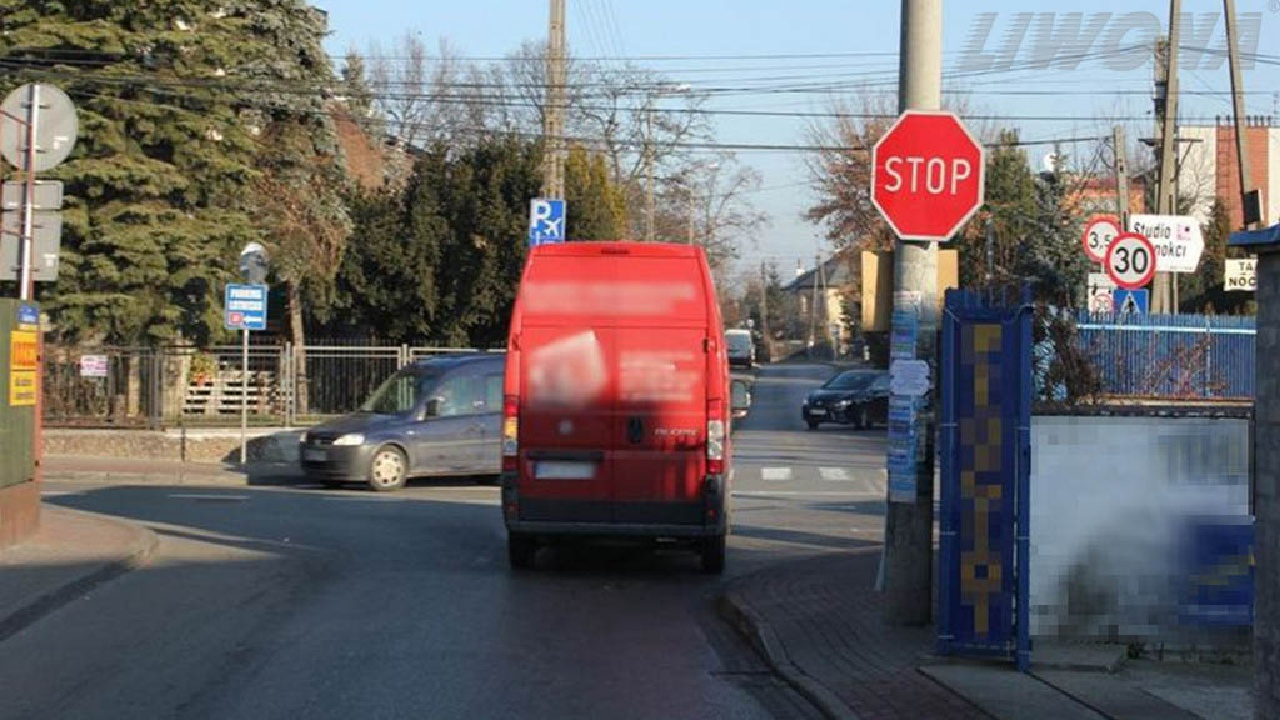B20: (871, 108, 986, 245)
B33_30: (1103, 232, 1158, 289)
